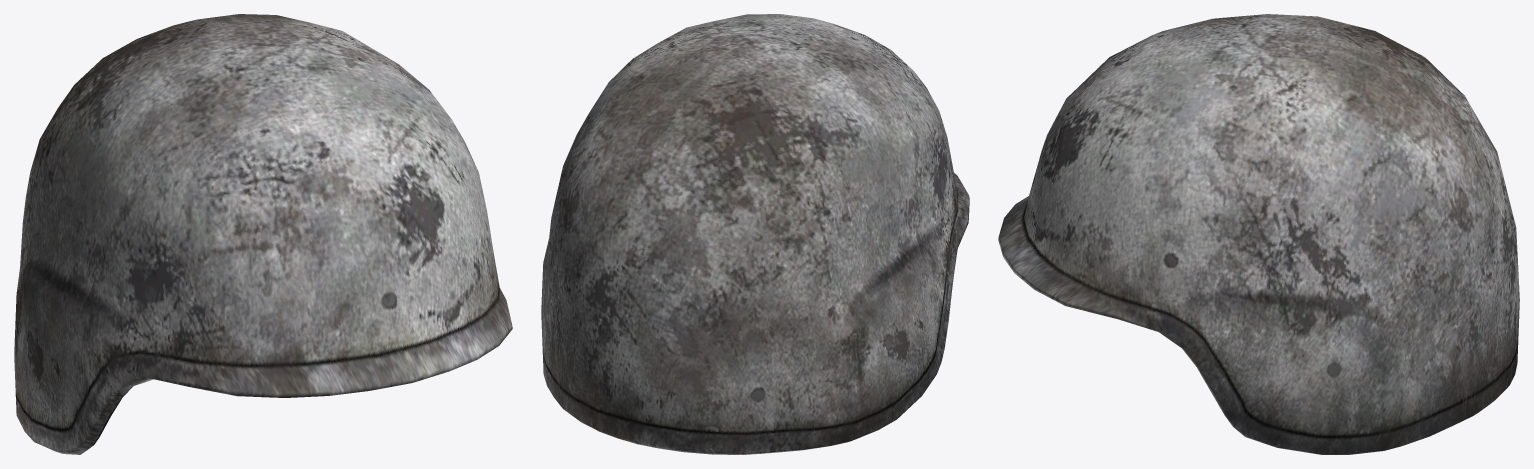
Rendered from SurvivorMale_Head_Helmet_Tactical_ChipsScratches_LOD0.glb.
3 views of the same model, side by side, from view 1: azimuth 30°, elevation 25°; view 2: azimuth 150°, elevation 25°; view 3: azimuth 270°, elevation 25° (orthographic). The views are drawn at different scales.
Parts seen in each view (by area): view 1: Hoodie; view 2: Hoodie; view 3: Hoodie.
Part boxes in pixels (<box>): Hoodie: <box>14,14,512,454</box>; Hoodie: <box>541,14,969,454</box>; Hoodie: <box>998,14,1519,454</box>.
Size of the model in its own units: 0.2055 by 0.1843 by 0.2573.
1 material, 1 textured.
